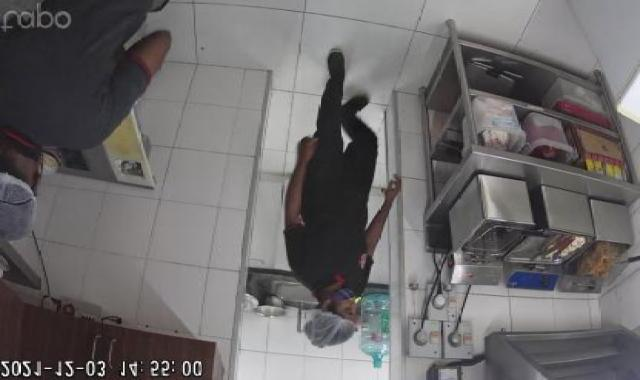hairnet: (0, 173, 52, 243), (298, 307, 359, 351)
